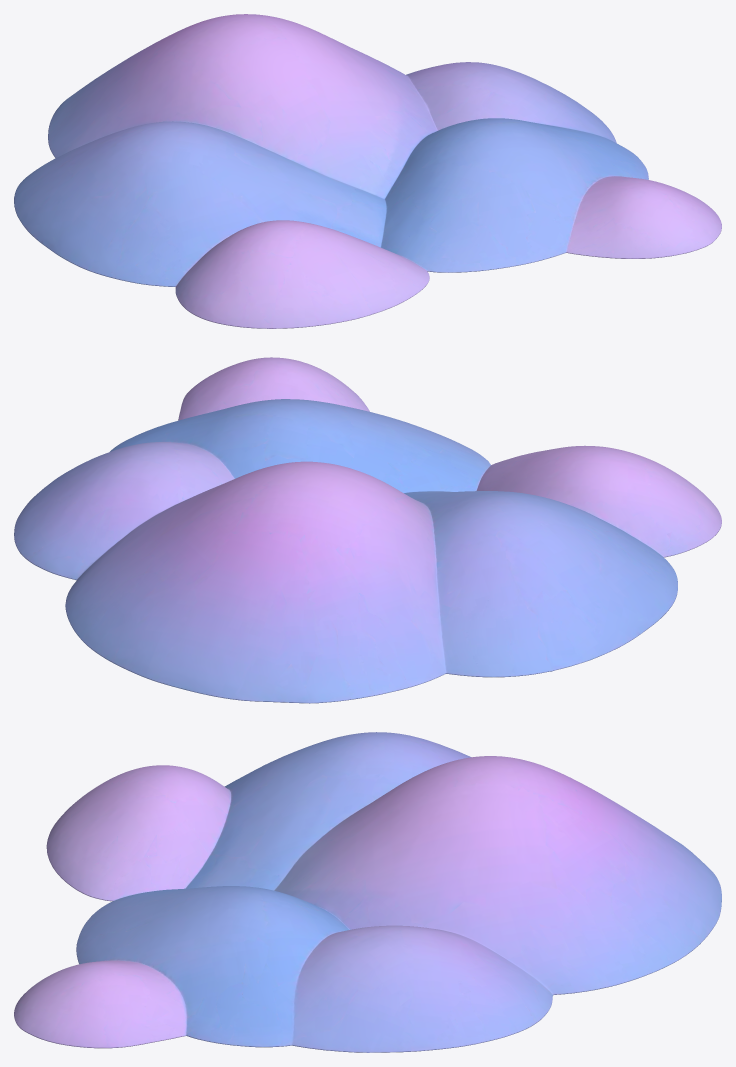
File: background.glb
The picture shows the model from 3 angles, top to bottom: view 1: azimuth 30°, elevation 25°; view 2: azimuth 150°, elevation 25°; view 3: azimuth 270°, elevation 25°; orthographic projection. The views are drawn at different scales.
Size of the model in its own units: 1.84 by 0.389 by 1.9.
1 material, 1 textured.
